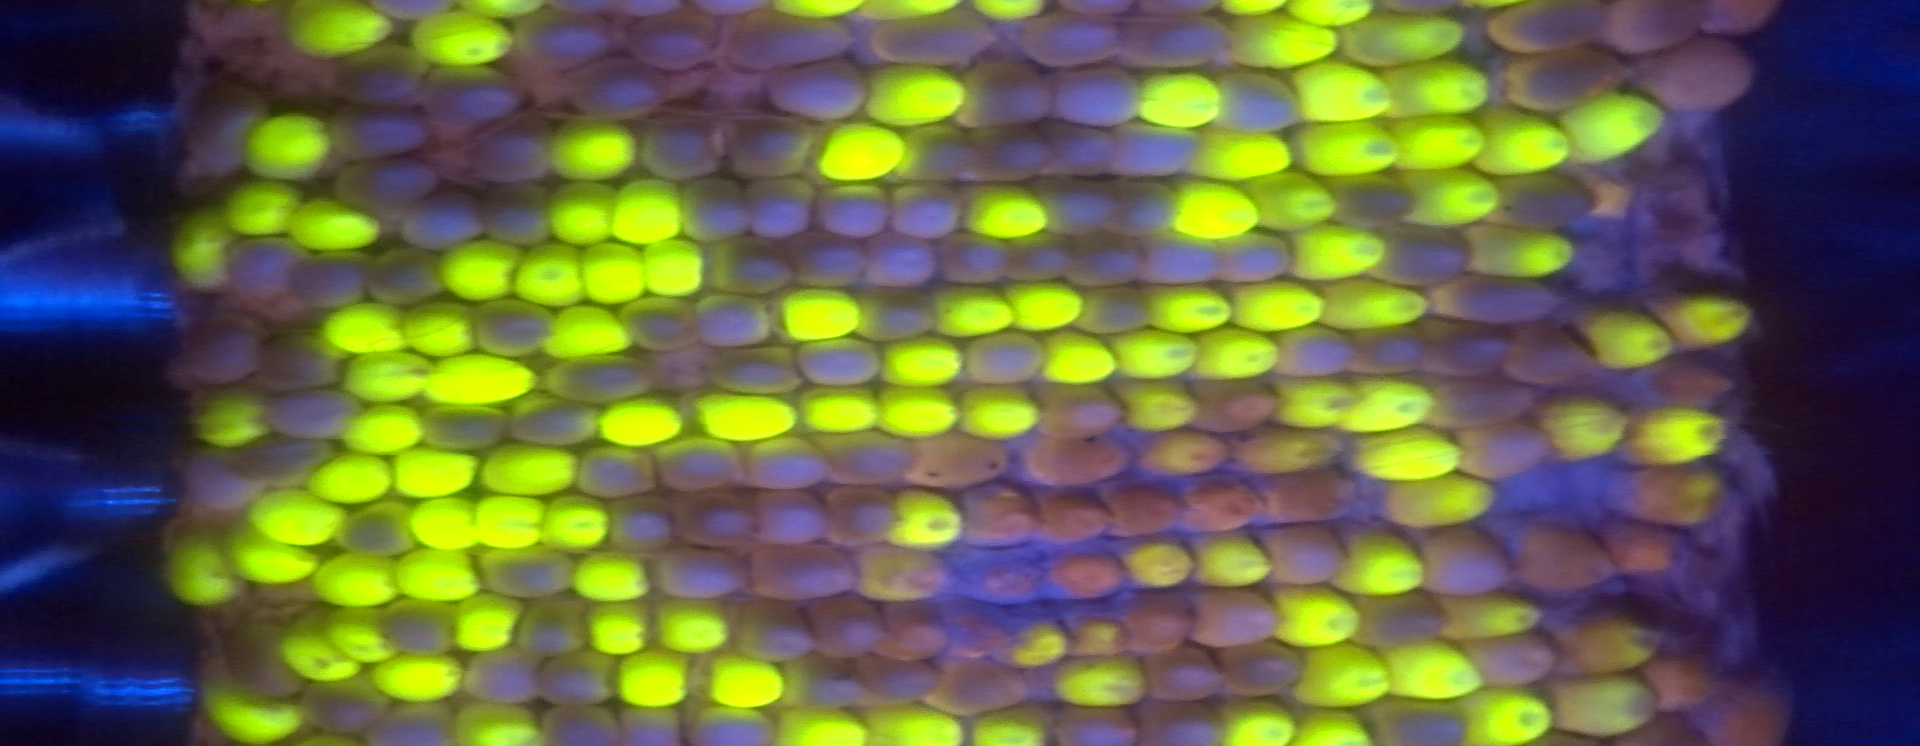fluorescent: (1566, 292, 1685, 383), (1556, 85, 1674, 173), (1524, 383, 1640, 473), (1221, 4, 1353, 80), (1284, 638, 1406, 719), (1324, 518, 1431, 608), (1614, 458, 1735, 537), (189, 673, 316, 746), (1347, 418, 1474, 491), (1467, 104, 1581, 186), (149, 526, 251, 617), (1373, 635, 1495, 710), (857, 58, 976, 135), (1378, 465, 1511, 534), (1551, 666, 1665, 746), (1616, 398, 1738, 473), (1284, 53, 1403, 129), (1284, 115, 1416, 184), (157, 200, 244, 303), (1330, 370, 1451, 443), (216, 514, 328, 593), (1381, 107, 1502, 179), (1340, 9, 1474, 73), (1378, 53, 1500, 124), (807, 114, 918, 191), (1651, 282, 1762, 359), (1564, 606, 1671, 686), (1311, 271, 1434, 341), (539, 110, 647, 189), (1164, 170, 1271, 249), (1280, 218, 1397, 289), (407, 2, 522, 75), (239, 105, 340, 186), (1264, 581, 1373, 655), (1461, 220, 1586, 285), (849, 539, 962, 610), (277, 1, 400, 66), (951, 178, 1062, 250), (418, 349, 545, 412), (1395, 164, 1511, 232), (271, 611, 367, 692), (1046, 650, 1160, 719), (1231, 419, 1351, 484), (602, 171, 696, 255), (1127, 64, 1234, 135), (469, 439, 590, 501), (1187, 121, 1303, 186), (431, 233, 530, 309), (531, 296, 645, 363), (1180, 526, 1284, 598), (688, 386, 806, 450), (1138, 274, 1247, 343), (1244, 167, 1346, 240), (185, 379, 283, 454), (876, 483, 975, 556), (242, 484, 354, 549), (283, 190, 388, 258), (1220, 278, 1337, 339), (922, 279, 1030, 345), (1104, 372, 1210, 440), (506, 236, 598, 314), (305, 548, 409, 615), (1183, 321, 1291, 386), (1449, 684, 1558, 746), (949, 377, 1046, 447), (648, 590, 741, 663), (539, 175, 624, 254), (331, 399, 433, 464), (214, 173, 310, 243), (606, 643, 698, 714), (367, 647, 471, 709), (1264, 370, 1368, 432), (1027, 325, 1125, 391), (573, 236, 656, 314), (1438, 587, 1547, 646), (868, 380, 969, 443), (384, 445, 489, 506), (1101, 326, 1205, 387), (317, 298, 419, 360), (589, 391, 694, 451), (301, 448, 400, 512), (389, 544, 490, 606), (337, 347, 441, 407), (394, 295, 485, 364), (700, 649, 792, 717), (775, 281, 868, 347), (442, 589, 530, 659), (790, 380, 891, 440), (533, 488, 618, 559), (996, 274, 1091, 337), (318, 603, 405, 671), (876, 333, 975, 393), (564, 545, 658, 609), (1139, 425, 1239, 484), (400, 490, 489, 556), (636, 235, 719, 304), (1111, 534, 1204, 595), (992, 612, 1079, 677), (465, 489, 553, 552), (441, 696, 547, 746), (1057, 605, 1144, 665), (856, 702, 973, 746), (578, 597, 655, 663), (1213, 692, 1303, 746), (767, 703, 876, 746), (1280, 703, 1387, 746), (965, 699, 1056, 746)
nonfluorescent: (1637, 31, 1768, 122), (176, 72, 279, 183), (1502, 42, 1636, 119), (862, 5, 1007, 76), (1507, 514, 1625, 601), (1689, 663, 1810, 746), (726, 2, 867, 73), (558, 51, 676, 129), (1411, 522, 1524, 601), (1011, 2, 1133, 76), (1428, 269, 1565, 334), (951, 58, 1064, 136), (465, 97, 560, 190), (220, 619, 316, 710), (1480, 1, 1622, 62), (763, 53, 880, 126), (1123, 9, 1247, 78), (1020, 429, 1142, 497), (1341, 588, 1461, 658), (902, 430, 1021, 500), (1210, 65, 1313, 145), (748, 538, 864, 608), (506, 4, 622, 73), (1422, 372, 1549, 436), (217, 229, 320, 307), (924, 652, 1037, 723), (293, 669, 399, 744), (1047, 59, 1153, 134), (1490, 168, 1605, 236), (418, 58, 527, 130), (1370, 219, 1479, 292), (1253, 519, 1354, 597), (1496, 321, 1607, 392), (720, 111, 823, 187), (1104, 115, 1210, 189), (327, 153, 451, 216), (227, 431, 348, 495), (336, 38, 432, 118), (174, 311, 271, 391), (819, 426, 926, 499), (1182, 583, 1288, 655), (1032, 541, 1141, 611), (1320, 171, 1431, 239), (544, 349, 664, 412), (1597, 1, 1722, 61), (621, 5, 730, 73), (1416, 314, 1518, 386), (727, 595, 827, 670), (800, 589, 894, 668), (470, 540, 582, 606), (175, 440, 271, 517), (703, 339, 812, 407), (1625, 352, 1740, 415), (950, 480, 1051, 552), (648, 543, 759, 608), (636, 113, 732, 187), (1462, 628, 1567, 697), (322, 103, 440, 164), (391, 184, 493, 254), (1058, 227, 1161, 296), (1449, 419, 1555, 486), (700, 233, 804, 301), (358, 243, 458, 314), (454, 643, 551, 717), (463, 294, 564, 364), (947, 546, 1052, 614), (1029, 379, 1138, 443), (256, 386, 371, 447), (1255, 465, 1363, 530), (650, 431, 756, 497), (285, 245, 383, 315), (1134, 641, 1232, 710), (1030, 116, 1128, 186), (1093, 171, 1187, 245), (1027, 171, 1125, 241), (1213, 637, 1313, 706), (1596, 514, 1691, 586), (1021, 486, 1125, 551), (1109, 590, 1204, 661), (411, 397, 518, 459), (1176, 472, 1276, 538), (774, 648, 871, 717), (501, 392, 609, 453), (965, 124, 1067, 189), (672, 174, 760, 249), (506, 593, 595, 666), (375, 594, 467, 665), (872, 595, 956, 673), (1264, 323, 1364, 388), (1640, 647, 1727, 722), (667, 488, 765, 554), (958, 328, 1056, 394), (852, 652, 951, 717), (1134, 229, 1233, 294), (931, 225, 1022, 295), (326, 499, 422, 565), (849, 282, 942, 350), (1093, 480, 1198, 541), (1362, 691, 1477, 746), (820, 480, 907, 552), (1185, 375, 1286, 437), (531, 647, 624, 714), (782, 225, 876, 293), (860, 228, 949, 298), (740, 432, 838, 496), (249, 333, 350, 394), (747, 484, 838, 552), (889, 121, 980, 190), (1343, 321, 1442, 383), (882, 176, 967, 249), (684, 285, 779, 350), (475, 179, 557, 252), (738, 170, 820, 244), (571, 442, 669, 503), (1213, 227, 1300, 294), (618, 290, 707, 356), (602, 491, 684, 562), (940, 600, 1022, 670), (1127, 692, 1232, 746), (812, 179, 898, 245), (792, 332, 887, 392), (360, 696, 467, 746), (1074, 277, 1155, 342), (1000, 229, 1086, 288), (1044, 699, 1147, 746), (531, 699, 629, 746), (160, 145, 229, 209), (682, 702, 778, 746), (607, 699, 687, 746)
